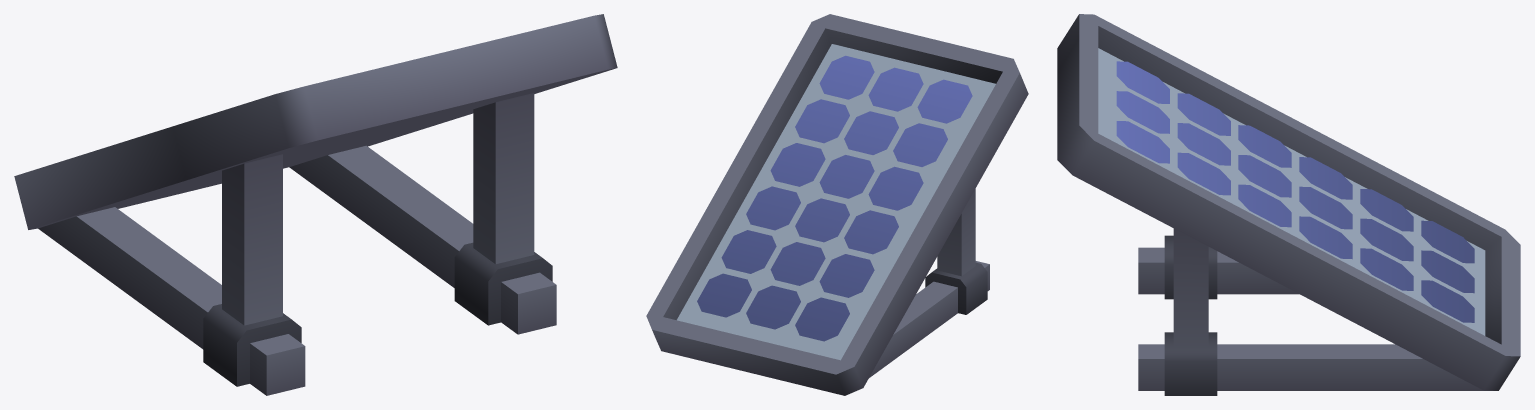
Rendered from industrial-solar-panel-portrait.glb.
3 renders of one model, left to right at view 1: azimuth 30°, elevation 25°; view 2: azimuth 150°, elevation 25°; view 3: azimuth 270°, elevation 25°, orthographic. The views are drawn at different scales.
Parts seen in each view (by area): view 1: solar-panel-portrait; view 2: solar-panel-portrait; view 3: solar-panel-portrait.
Part boxes in pixels (x1,y1,x2,y2): solar-panel-portrait: [14, 14, 617, 395]; solar-panel-portrait: [646, 14, 1028, 395]; solar-panel-portrait: [1057, 14, 1520, 395].
Bounding box in the file's own units: 0.4182 × 0.41 × 0.6486.
